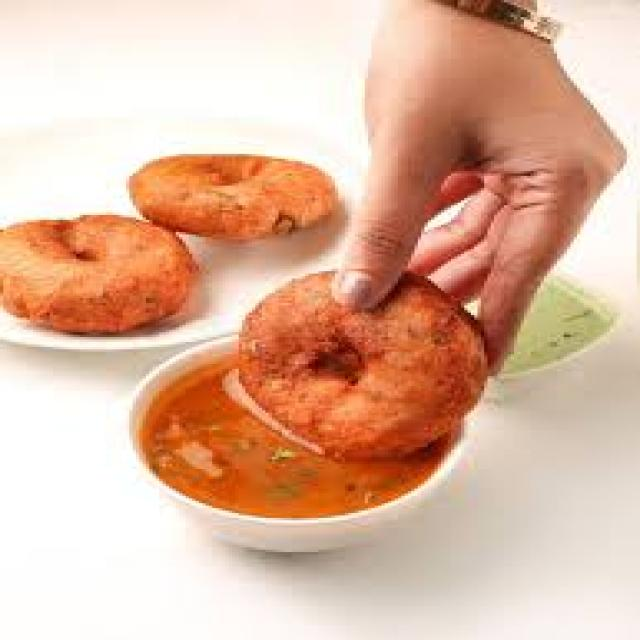IDLI: (1, 212, 192, 331)
MEDU VADA: (231, 268, 489, 457), (128, 151, 336, 240)
